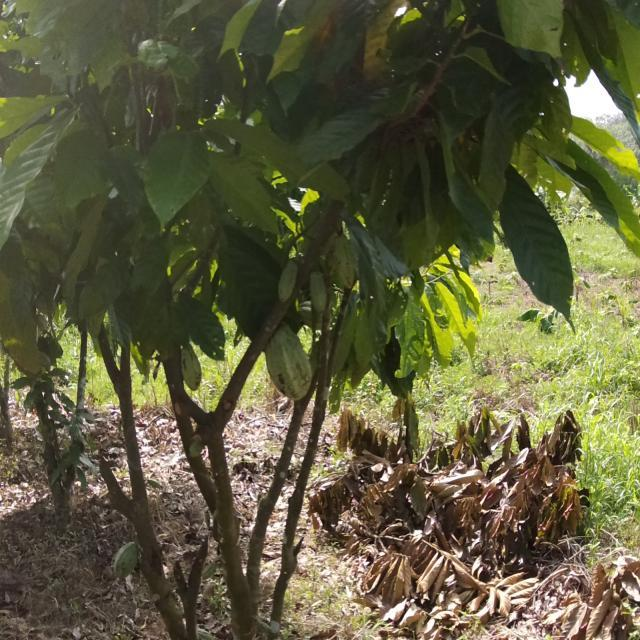Immature: (324, 224, 365, 300), (279, 274, 335, 312)
Mature_Unripe: (262, 325, 322, 423), (110, 530, 141, 593)
